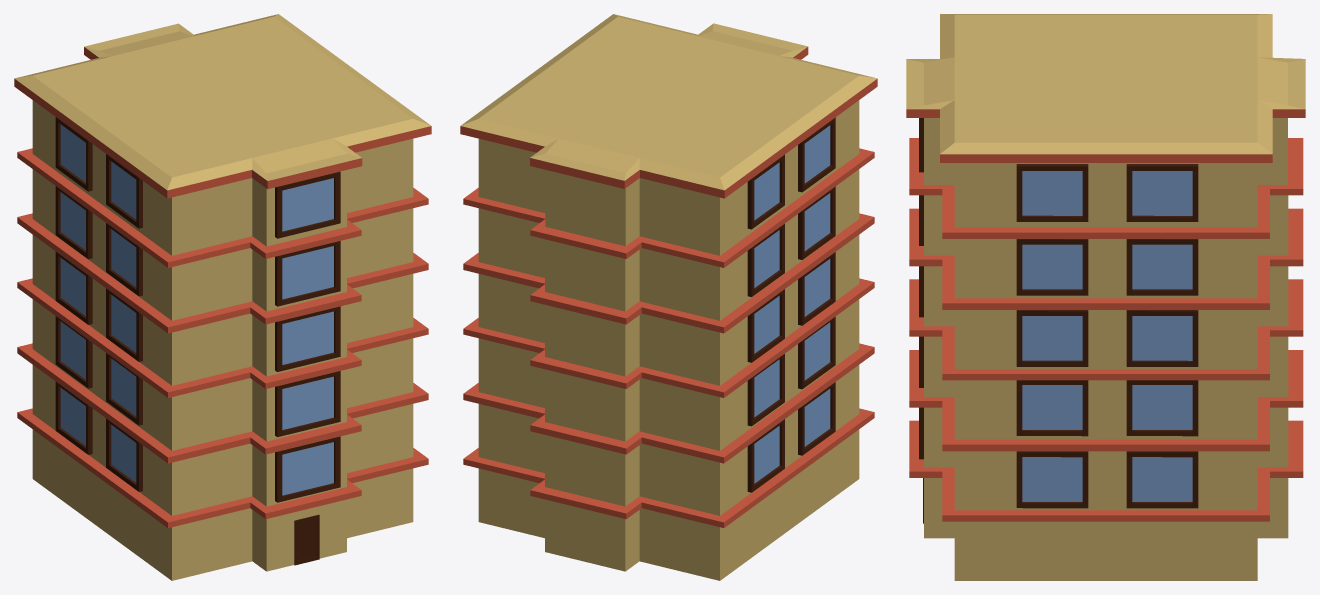
File: apartdeneme.fbx
3 renders of one model, left to right at view 1: azimuth 30°, elevation 25°; view 2: azimuth 150°, elevation 25°; view 3: azimuth 270°, elevation 25°, orthographic. The views are drawn at different scales.
Parts seen in each view (by area): view 1: bina; view 2: bina; view 3: bina.
Boxes of the visible parts, <box> form: bina: <box>14,14,431,580</box>; bina: <box>460,14,877,580</box>; bina: <box>906,14,1305,580</box>.
Bounding box in the file's own units: 368 × 537 × 443.
